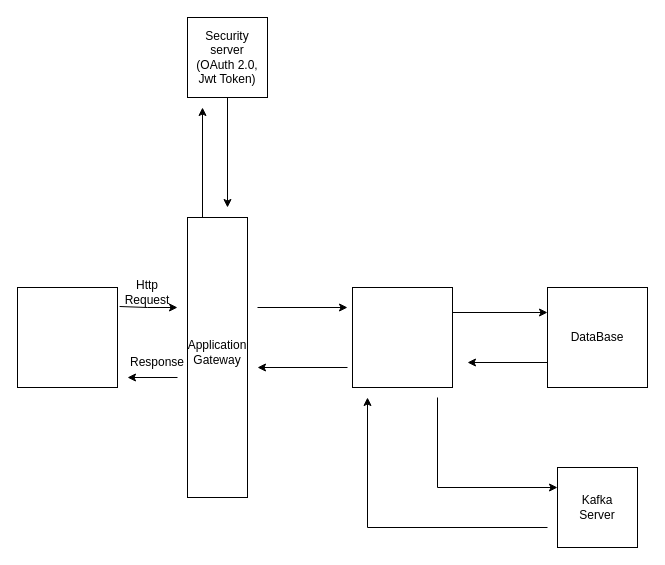
Image size: 665x565. Some labels were removed from this diagram. The centre of each missing label's shape, as x and y in pixels:
Client: the point at 67,337
Server F1-F2-F3-F4---: the point at 402,337
